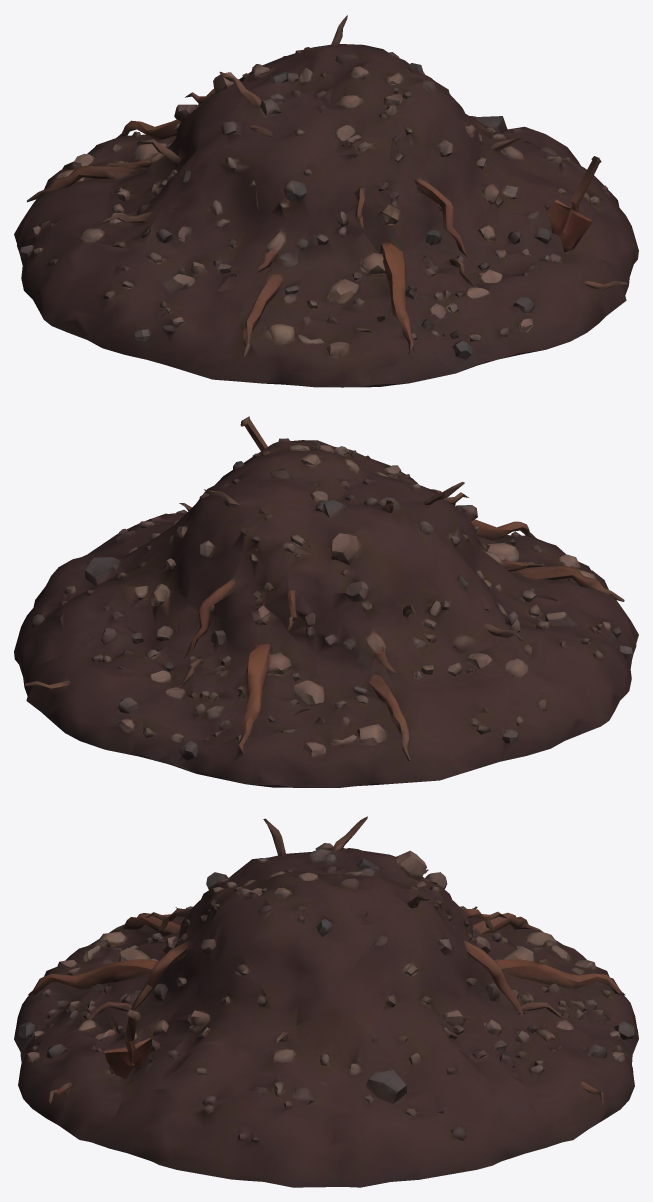
The model's file is decor_dirt_mound_idle.glb.
The picture shows the model from 3 angles, top to bottom: view 1: azimuth 30°, elevation 25°; view 2: azimuth 150°, elevation 25°; view 3: azimuth 270°, elevation 25°; orthographic projection.
Visible parts, largest first — view 1: tripo_node_ebfe528f-3c86-4ce0-b1cf-f4fa2ea70117; view 2: tripo_node_ebfe528f-3c86-4ce0-b1cf-f4fa2ea70117; view 3: tripo_node_ebfe528f-3c86-4ce0-b1cf-f4fa2ea70117.
Part boxes in pixels (box(x1,y1,x2,y2)): tripo_node_ebfe528f-3c86-4ce0-b1cf-f4fa2ea70117: box(14, 15, 638, 387); tripo_node_ebfe528f-3c86-4ce0-b1cf-f4fa2ea70117: box(14, 416, 638, 787); tripo_node_ebfe528f-3c86-4ce0-b1cf-f4fa2ea70117: box(14, 816, 638, 1187).
Size of the model in its own units: 1.5 by 0.4922 by 1.44.
1 material, 1 textured.
